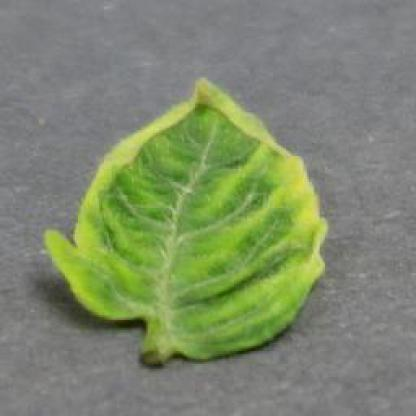bad leaf: (76, 67, 334, 301)
